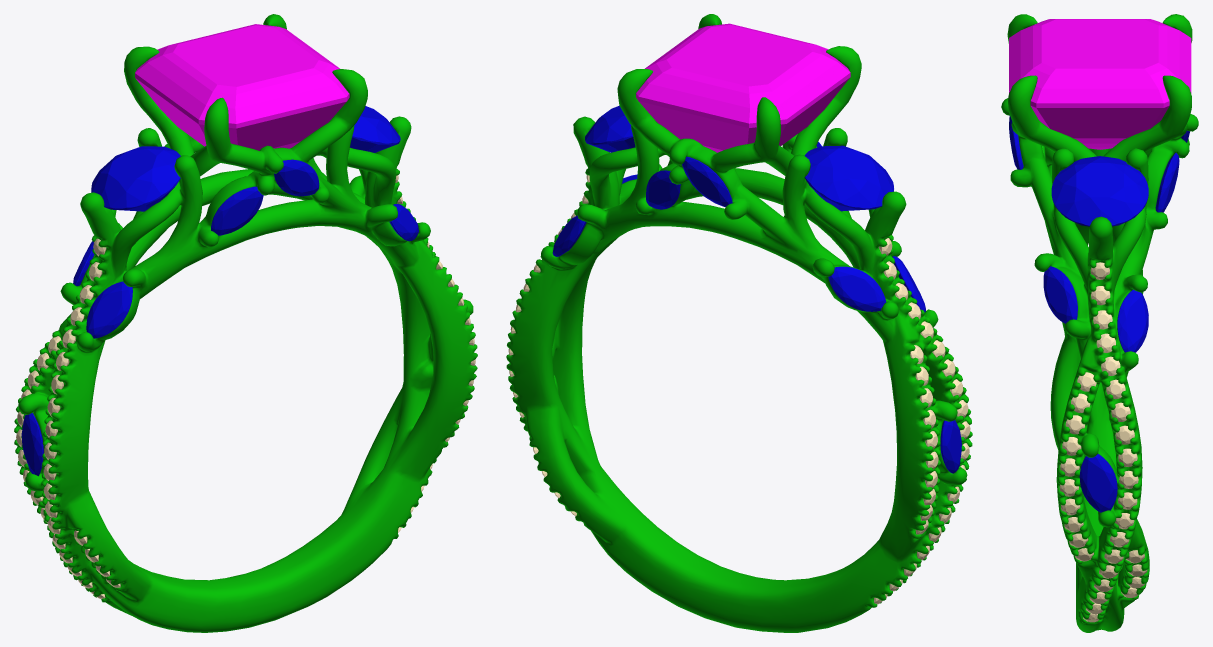
The model's file is BE1D946_AS_200ct_RENDER.glb.
The picture shows the model from 3 angles, left to right: view 1: azimuth 30°, elevation 25°; view 2: azimuth 150°, elevation 25°; view 3: azimuth 270°, elevation 25°; orthographic projection.
Parts seen in each view (by area): view 1: Metal 01, CS_Diamond_Asscher, Diamond_Round_side.001, Diamond_Marquise_side.007, Diamond_Marquise_side.004, Diamond_Round_side, Diamond_Marquise_side.009, Diamond_Marquise_side.005, Diamond_Marquise_side.001; view 2: Metal 01, CS_Diamond_Asscher, Diamond_Round_side.001, Diamond_Marquise_side.006, Diamond_Round_side, Diamond_Marquise_side.008, Diamond_Marquise_side.003, Diamond_Marquise_side.005, Diamond_Marquise_side.002; view 3: Metal 01, CS_Diamond_Asscher, Diamond_Round_side, Diamond_Marquise_side, Diamond_Marquise_side.002, Diamond_Marquise_side.001, Diamond_Marquise_side.003, Diamond_Marquise_side.009.
Part boxes in pixels (<box>): Metal 01: <box>14,14,477,632</box>; CS_Diamond_Asscher: <box>135,24,349,150</box>; Diamond_Round_side.001: <box>91,146,180,211</box>; Diamond_Marquise_side.007: <box>86,281,132,338</box>; Diamond_Marquise_side.004: <box>211,186,263,235</box>; Diamond_Round_side: <box>350,106,400,152</box>; Diamond_Marquise_side.009: <box>274,159,319,196</box>; Diamond_Marquise_side.005: <box>21,413,43,475</box>; Diamond_Marquise_side.001: <box>389,204,418,241</box>; Metal 01: <box>506,14,972,632</box>; CS_Diamond_Asscher: <box>636,23,850,152</box>; Diamond_Round_side.001: <box>804,145,893,211</box>; Diamond_Marquise_side.006: <box>828,266,886,311</box>; Diamond_Round_side: <box>585,105,635,152</box>; Diamond_Marquise_side.008: <box>682,156,732,206</box>; Diamond_Marquise_side.003: <box>646,170,680,209</box>; Diamond_Marquise_side.005: <box>940,420,961,473</box>; Diamond_Marquise_side.002: <box>552,215,586,256</box>; Metal 01: <box>1001,14,1198,632</box>; CS_Diamond_Asscher: <box>1009,19,1191,149</box>; Diamond_Round_side: <box>1051,156,1148,226</box>; Diamond_Marquise_side: <box>1079,454,1117,512</box>; Diamond_Marquise_side.002: <box>1117,289,1148,352</box>; Diamond_Marquise_side.001: <box>1043,266,1077,323</box>; Diamond_Marquise_side.003: <box>1155,153,1179,212</box>; Diamond_Marquise_side.009: <box>1009,115,1023,169</box>.
Size of the model in its own units: 21.12 by 25.68 by 8.13.
